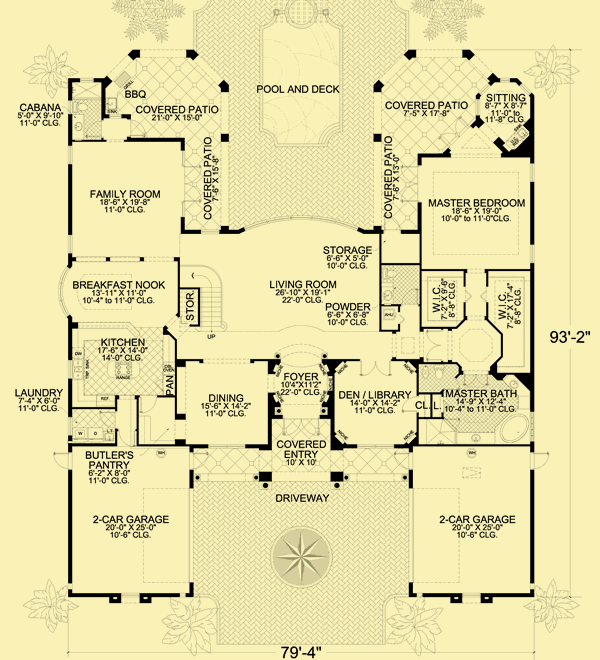door: (356, 356, 393, 379), (55, 263, 71, 315), (282, 419, 322, 439), (424, 329, 447, 360), (136, 395, 159, 413), (115, 428, 135, 448), (51, 450, 73, 468), (394, 450, 414, 469), (532, 448, 548, 471)
large_sink: (69, 99, 92, 113), (381, 264, 396, 281)
small_sink: (455, 434, 495, 446), (69, 114, 85, 136), (380, 284, 393, 304)
stairs: (179, 262, 229, 336)
tub: (500, 411, 529, 446)
